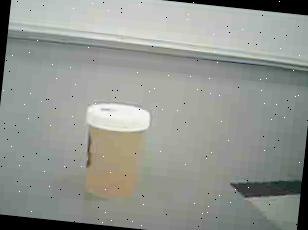Bottle B: (66, 93, 161, 212)
